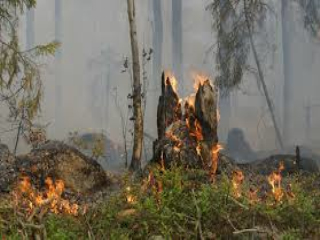fire: (148, 73, 221, 167), (238, 155, 302, 207), (17, 169, 80, 214)
smoke: (25, 14, 141, 152)
